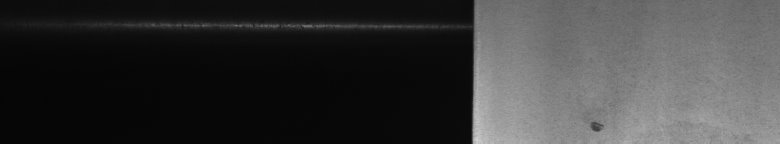fi: (584, 110, 608, 136)
